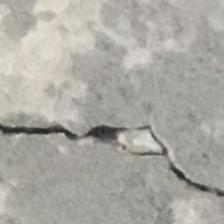Crack: (0, 87, 224, 212)
